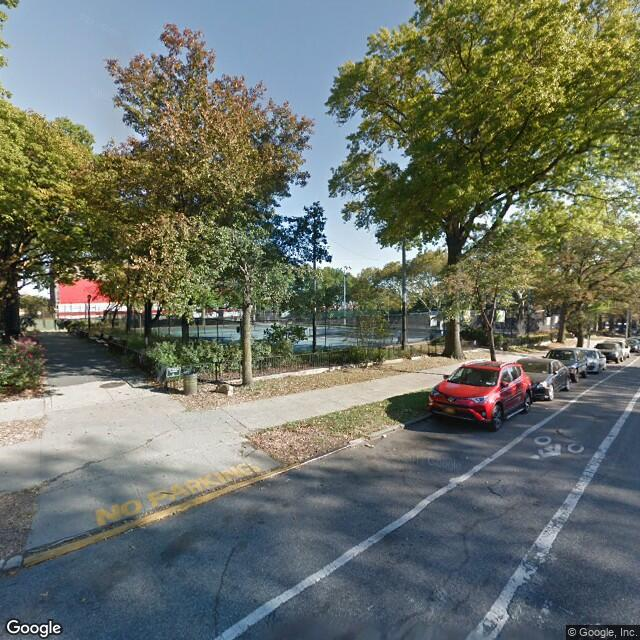litter: (362, 440, 374, 449), (381, 432, 387, 438)
